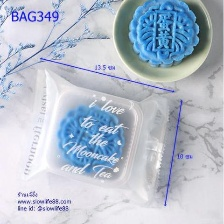snack: (14, 61, 177, 212)
